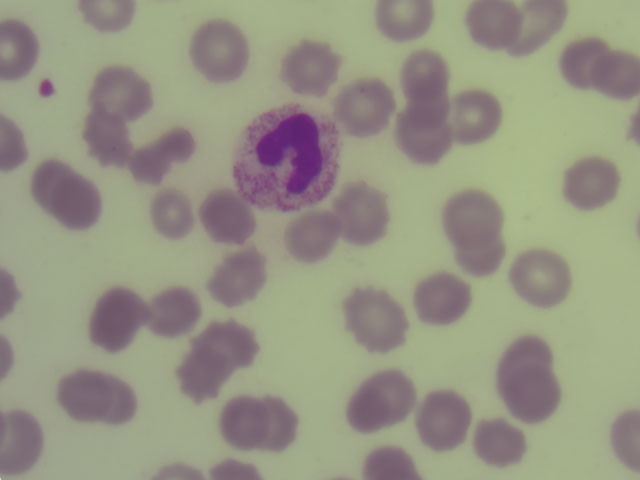Platelets: (32, 74, 61, 102)
RBC: (339, 288, 407, 352), (190, 22, 250, 83), (514, 249, 577, 307), (286, 38, 340, 100), (91, 71, 160, 119), (562, 155, 621, 211), (94, 290, 151, 347), (446, 192, 505, 247), (210, 252, 268, 306), (60, 371, 116, 425), (451, 225, 509, 277), (513, 2, 566, 58), (509, 368, 564, 421), (343, 185, 392, 244), (207, 187, 256, 246), (2, 406, 42, 478), (151, 285, 206, 337), (30, 159, 78, 218), (181, 343, 232, 398), (368, 369, 417, 425), (340, 84, 392, 136), (453, 91, 504, 143), (402, 50, 452, 103), (423, 394, 472, 447), (394, 122, 453, 166), (56, 177, 104, 231), (466, 1, 520, 48), (414, 279, 473, 322), (376, 2, 436, 44), (222, 394, 268, 448), (256, 390, 297, 448), (84, 120, 133, 168), (2, 19, 40, 80), (288, 218, 340, 262), (497, 336, 550, 379), (203, 323, 259, 363), (609, 401, 640, 472), (594, 51, 640, 98), (341, 385, 388, 431), (153, 191, 194, 241), (479, 421, 526, 464), (77, 2, 137, 35), (365, 446, 421, 480), (561, 37, 599, 80), (401, 95, 450, 128), (1, 117, 27, 175), (107, 379, 141, 423), (132, 149, 171, 183), (207, 456, 263, 478), (3, 267, 24, 319), (164, 129, 194, 163), (150, 465, 203, 480), (1, 328, 15, 380), (628, 108, 640, 142)
WBC: (234, 99, 336, 216)
